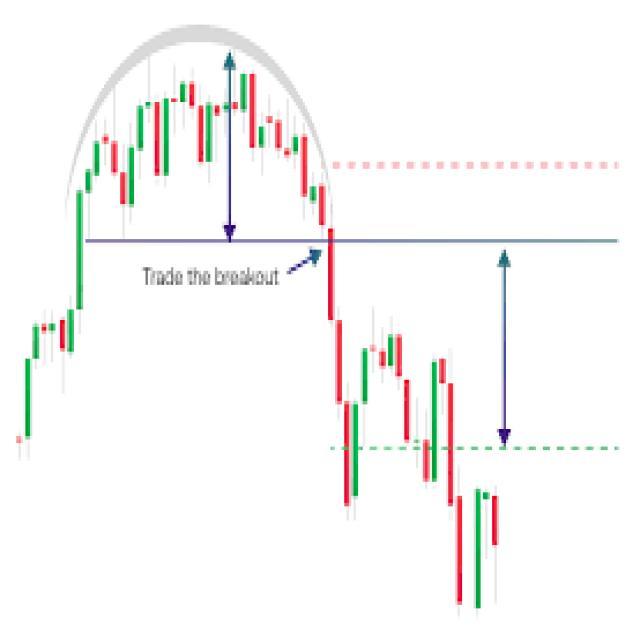Rounding-Top: (64, 30, 340, 233)
